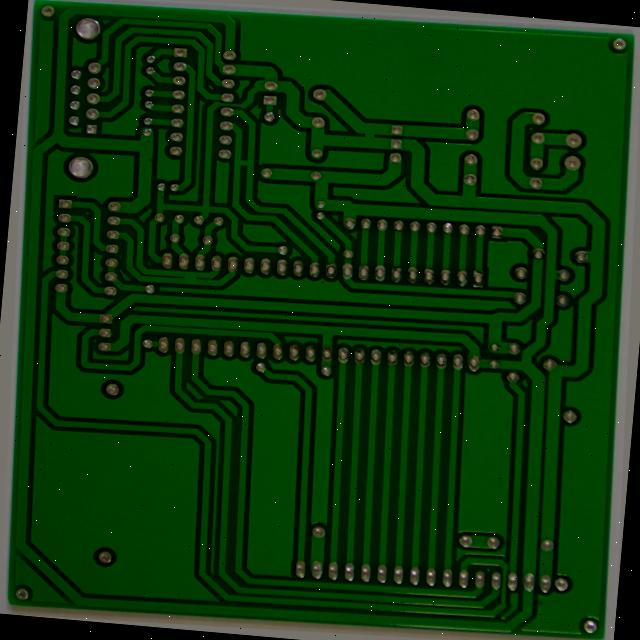short: (363, 115, 390, 147), (234, 145, 260, 167), (173, 263, 196, 282)
